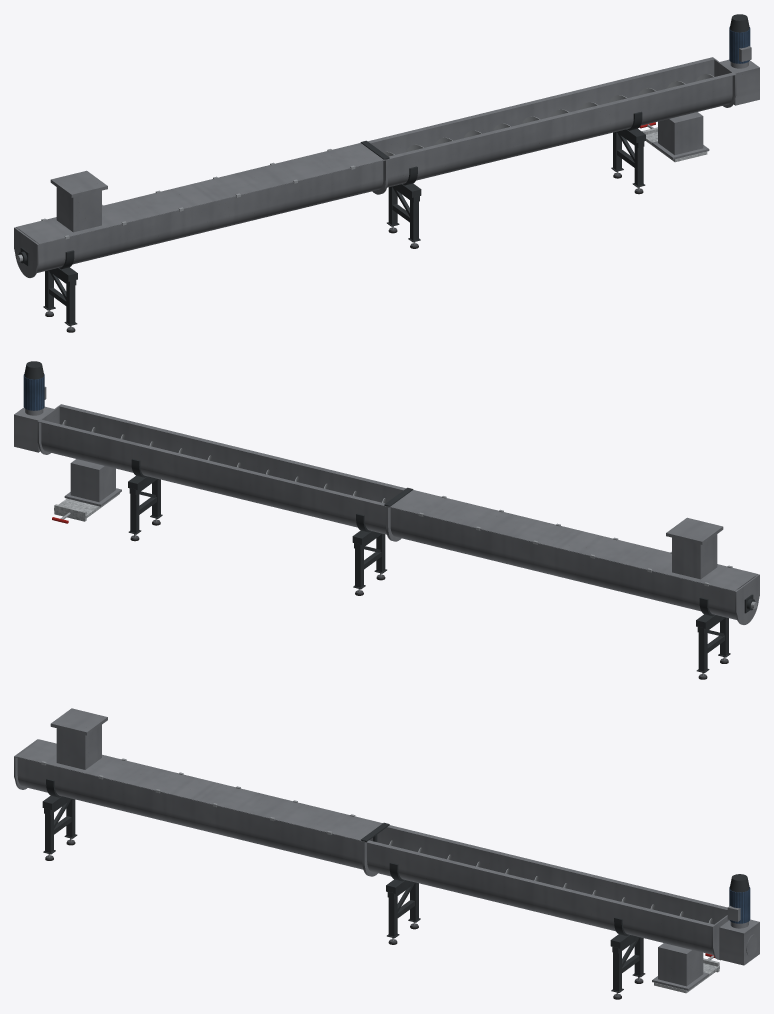
The model's file is screw-spin-demo.glb.
3 renders of one model, top to bottom at view 1: azimuth 30°, elevation 25°; view 2: azimuth 150°, elevation 25°; view 3: azimuth 330°, elevation 25°, orthographic.
Visible parts, largest first — view 1: Trough, Covers, Supports, Inlet, Discharge, Drive, Screw; view 2: Trough, Covers, Supports, Discharge, Inlet, Drive; view 3: Trough, Covers, Supports, Drive, Inlet, Discharge.
Part boxes in pixels (x1,y1,x2,y2): Trough: (14, 57, 736, 277); Covers: (16, 143, 384, 244); Supports: (43, 111, 645, 326); Inlet: (50, 170, 107, 232); Discharge: (639, 112, 709, 162); Drive: (720, 14, 759, 105); Screw: (16, 74, 713, 261); Trough: (37, 404, 759, 624); Covers: (389, 490, 757, 591); Supports: (128, 458, 730, 673); Discharge: (52, 459, 121, 523); Inlet: (666, 517, 723, 579); Drive: (14, 361, 53, 452); Trough: (14, 739, 728, 960); Covers: (16, 739, 382, 840); Supports: (42, 778, 645, 992); Drive: (719, 874, 759, 965); Inlet: (50, 708, 107, 769); Discharge: (652, 943, 719, 993).
Bounding box in the file's own units: 7.71 × 1.4 × 0.8515.
Materials: 9 (9 with a texture image).
